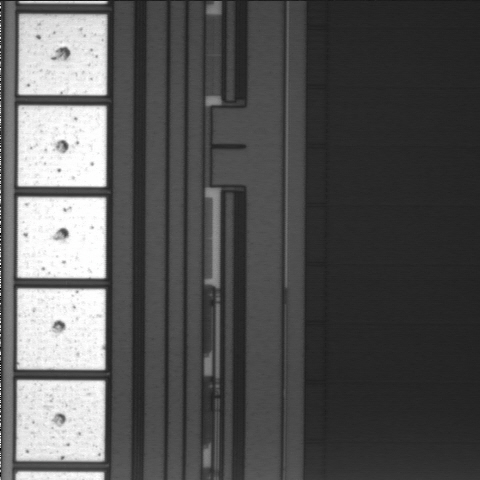pad: (17, 197, 106, 278), (16, 380, 105, 461), (19, 14, 107, 95), (18, 106, 106, 187), (17, 289, 105, 370)
